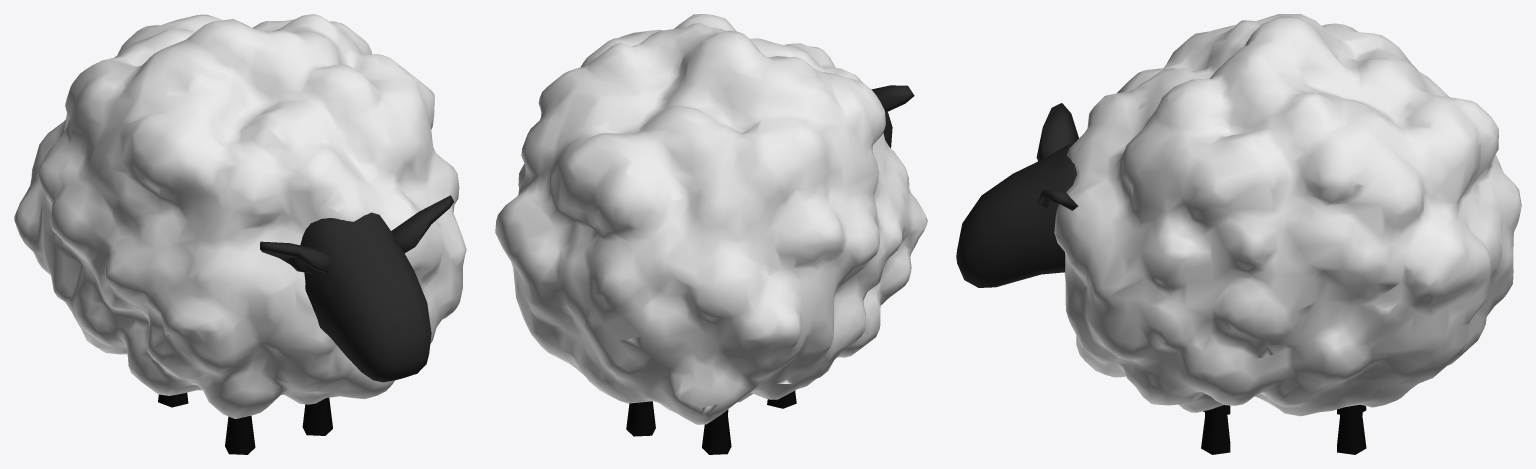
File: sheep.glb
3 views of the same model, side by side, from view 1: azimuth 30°, elevation 25°; view 2: azimuth 150°, elevation 25°; view 3: azimuth 270°, elevation 25° (orthographic). The views are drawn at different scales.
Parts seen in each view (by area): view 1: sheep_body.003; view 2: sheep_body.003; view 3: sheep_body.003.
Boxes of the visible parts, left/top/right/bottom form: sheep_body.003: left=14, top=14, right=466, bottom=454; sheep_body.003: left=495, top=14, right=927, bottom=454; sheep_body.003: left=956, top=14, right=1521, bottom=454.
Size of the model in its own units: 3.85 by 4.21 by 5.41.
1 material, 1 textured.
